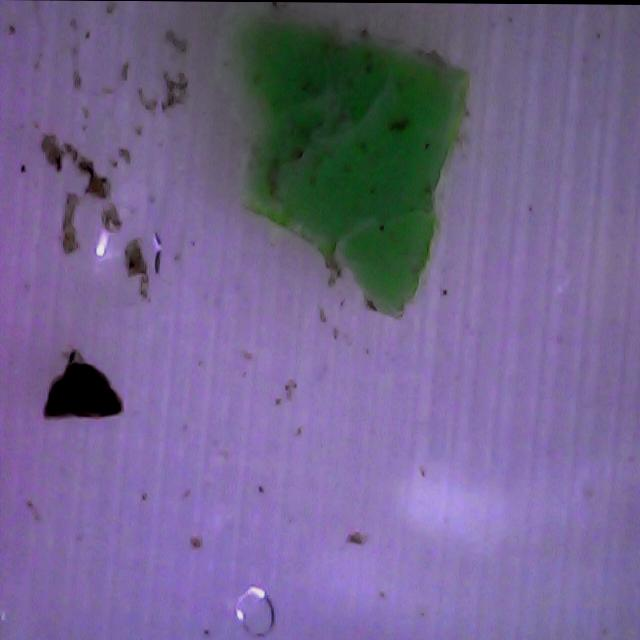microplastic: (187, 13, 475, 321), (43, 350, 122, 419)
